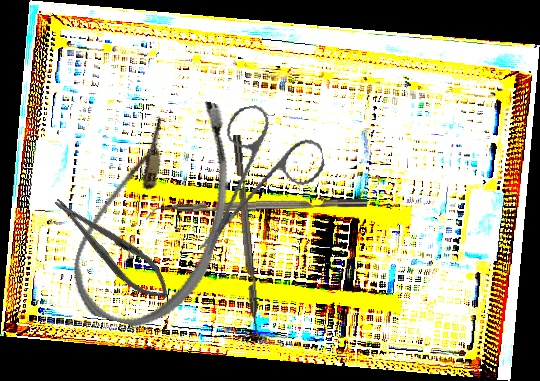Cannula: (62, 79, 251, 341)
Chopper: (232, 133, 270, 344), (145, 198, 368, 222)
Iris Scissors: (174, 94, 338, 257)
Needle Holder: (45, 186, 179, 310)
